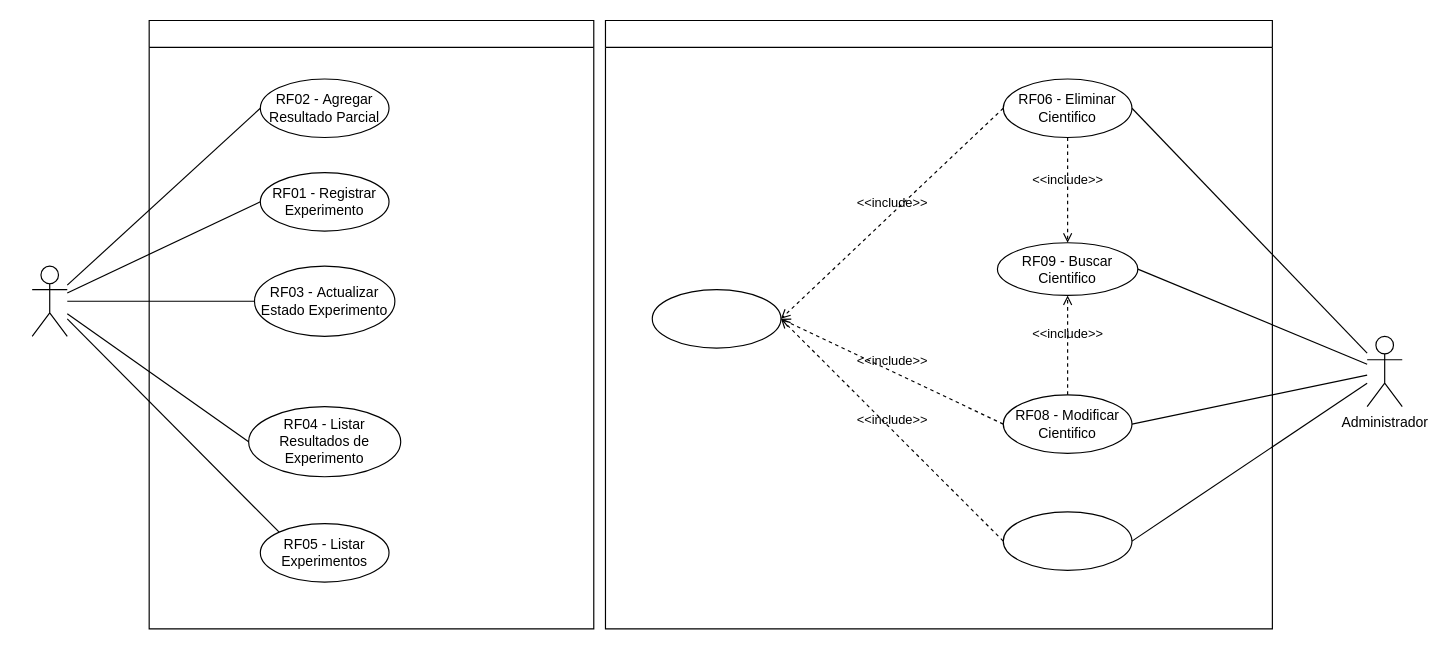
This 1448x649 diagram has some shape labels left out. The shapes that lost their labels are listed below. From the top down, each one's box as (x1, y1, x2, y2) in pixels, then its label:
(31, 265, 67, 336): Científico
(651, 288, 781, 348): RF10 - Pedir contraseña admin
(148, 19, 594, 629): MóduloExperimento
(604, 19, 1272, 629): MóduloCientífico
(1002, 511, 1132, 570): RF07 - Agregar Cientifico
